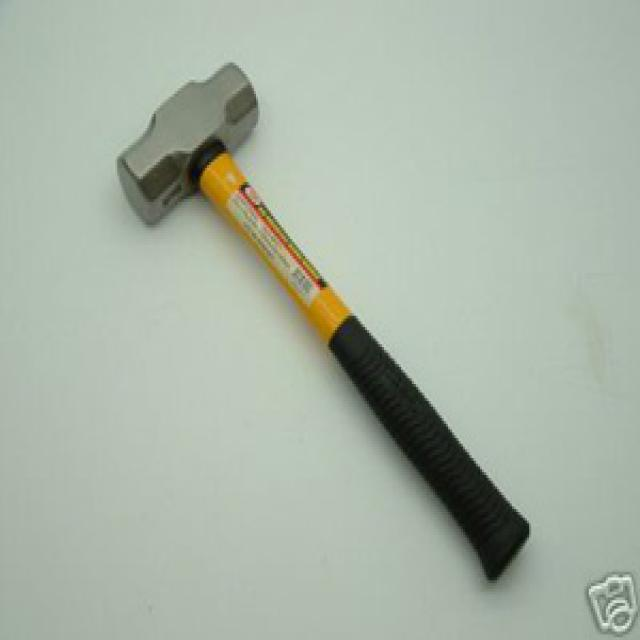hammer: (100, 29, 578, 593)
